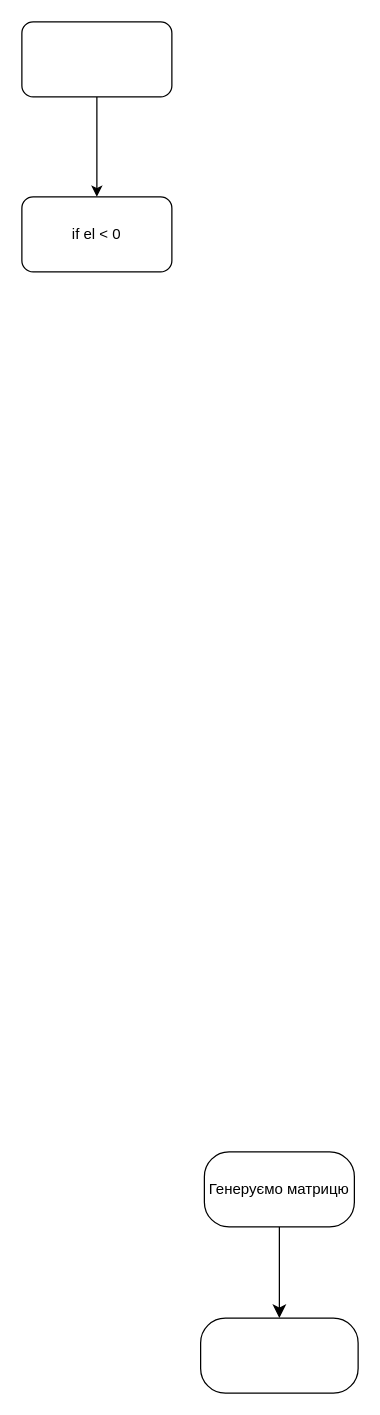
Image size: 380x1415. Some labels were removed from this diagram. The centre of each missing label's shape, as x and y in pixels:
"matrix" goes at (x=96, y=59).
"число < 0" goes at (x=278, y=1355).
